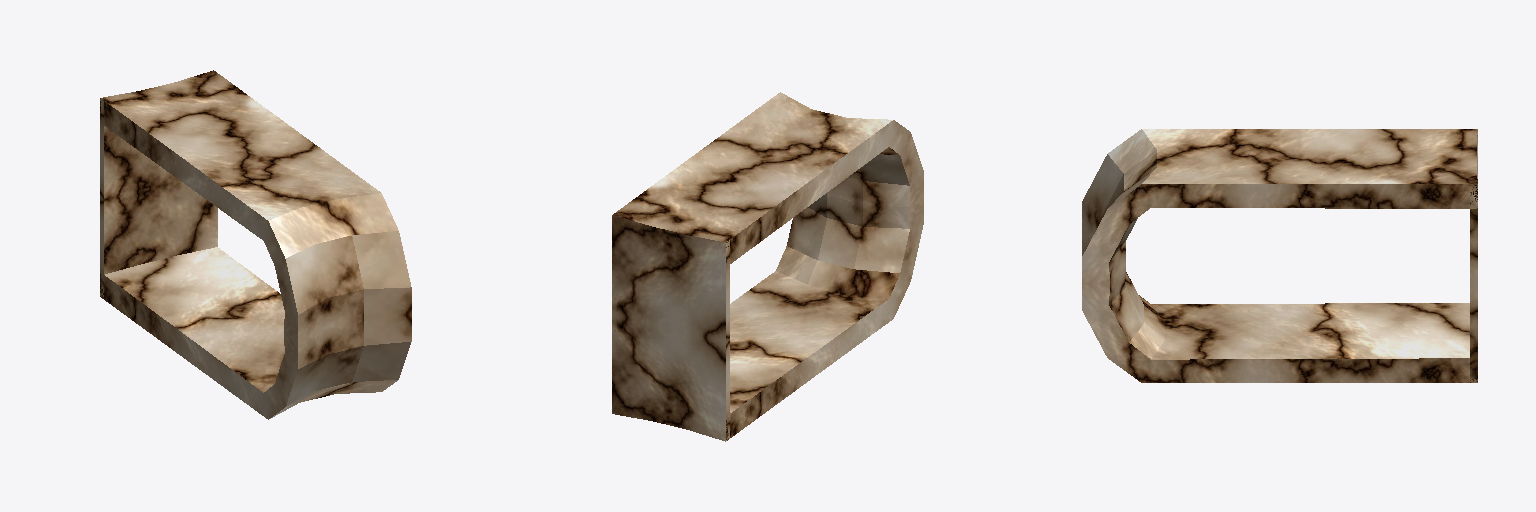
3 renders of one model, left to right at view 1: azimuth 30°, elevation 25°; view 2: azimuth 150°, elevation 25°; view 3: azimuth 270°, elevation 25°, orthographic.
Parts seen in each view (by area): view 1: Plane_Plane_Material.001; view 2: Plane_Plane_Material.001; view 3: Plane_Plane_Material.001.
Part boxes in pixels (x1,y1,x2,y2): Plane_Plane_Material.001: (100,70,411,419); Plane_Plane_Material.001: (612,92,923,441); Plane_Plane_Material.001: (1082,129,1477,382).
Size of the model in its own units: 0.6326 by 1.06 by 1.91.
Materials: 1 (1 with a texture image).